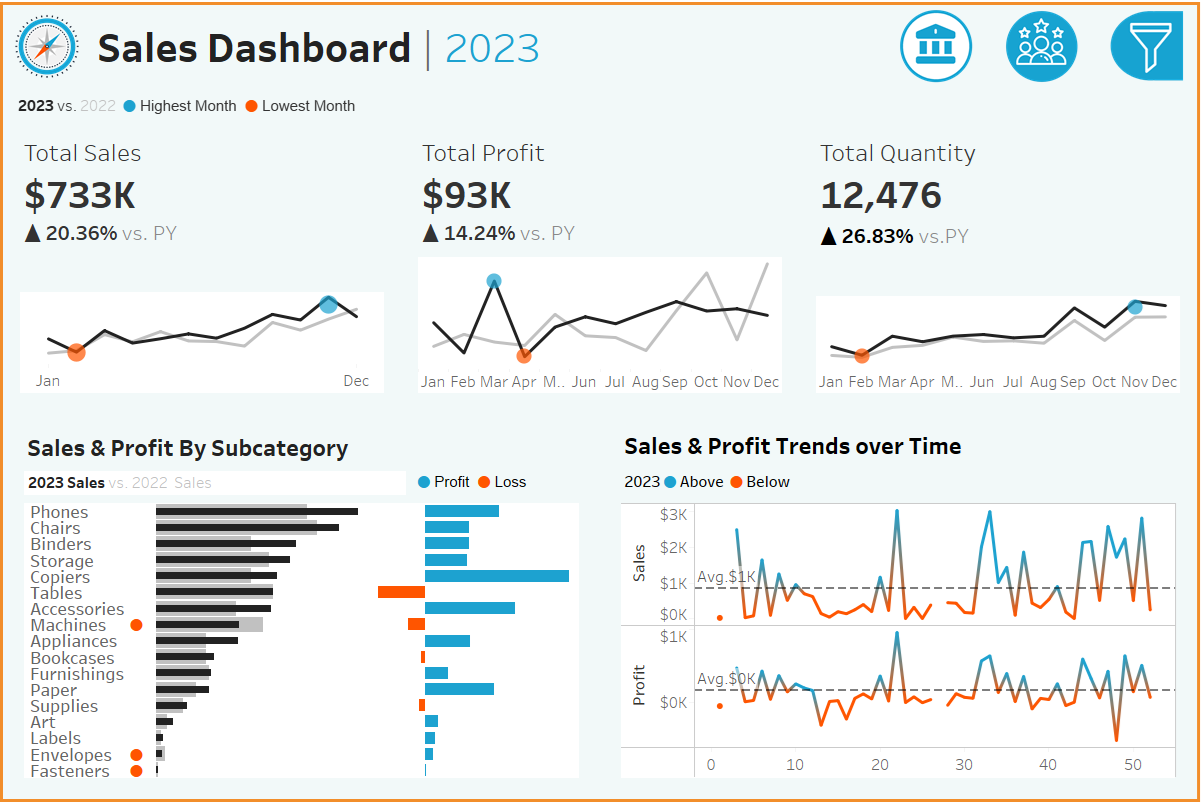

This screenshot's page, from the dashboard's own definition file:
{"tool":"tableau","page":{"name":"Sales Dashboard","canvas":[1200,800],"ordinal":1},"visuals":[{"type":"image","param":"D:/Data Analysis Project/Tabeau/Sales Dashboard Materials/Dashboard Icons/Icon -","box":[3,3,87,82]},{"type":"text","box":[90,3,794,82]},{"type":"dashboard-object","box":[884,3,105,82]},{"type":"dashboard-object","box":[989,3,104,82]},{"type":"dashboard-object","box":[1093,3,104,82]},{"type":"blank","box":[905,10,283,89]},{"type":"worksheet","title":"Legand KPI","mark":"Automatic","box":[3,85,1194,38]},{"type":"text","box":[905,99,283,40]},{"type":"worksheet","title":"KPI Sales","mark":"Automatic","rows":["Calculation_1280711144994123787"],"cols":["Order Date"],"box":[3,123,398,285]},{"type":"worksheet","title":"KPI Profit","mark":"Automatic","rows":["Calculation_1280711145076658201"],"cols":["Order Date"],"box":[401,123,398,285]},{"type":"worksheet","title":"KPI Quantity","mark":"Automatic","rows":["Calculation_1280711145082982430"],"cols":["Order Date"],"box":[799,123,398,285]},{"type":"parameter","param":"[Parameters].[Parameter 1]","box":[905,139,283,56]},{"type":"blank","box":[905,195,283,60]},{"type":"text","box":[905,255,283,33]},{"type":"filter","title":"KPI Sales","param":"[federated.1sicuv803ezvt21517y710dkkp9c].[none:Category:nk]","box":[905,288,283,61]},{"type":"filter","title":"KPI Sales","param":"[federated.1sicuv803ezvt21517y710dkkp9c].[none:Sub-Category:nk]","box":[905,349,283,61]},{"type":"text","box":[905,410,283,33]},{"type":"text","box":[20,425,563,40]},{"type":"text","box":[617,425,563,36]},{"type":"filter","title":"KPI Sales","param":"[federated.1sicuv803ezvt21517y710dkkp9c].[none:Region:nk]","box":[905,443,283,61]},{"type":"text","box":[617,461,563,36]},{"type":"worksheet","title":"Legand Sales","mark":"Automatic","box":[20,465,390,32]},{"type":"text","box":[410,465,173,32]},{"type":"worksheet","title":"Subcategories comparison","mark":"Bar","rows":["Sub-Category","Calculation_1280711145094078495"],"cols":["CY Sales (copy)_1280711144985690120","Calculation_1280711144984895495","Calculation_1280711145076080663"],"box":[20,497,563,283]},{"type":"worksheet","title":"Weekly Trend","mark":"Automatic","rows":["Calculation_1280711144984895495","Calculation_1280711145076080663"],"cols":["Order Date"],"box":[617,497.1,563,282.9]},{"type":"filter","title":"KPI Sales","param":"[federated.1sicuv803ezvt21517y710dkkp9c].[none:State:nk]","box":[905,504,283,61]},{"type":"filter","title":"KPI Sales","param":"[federated.1sicuv803ezvt21517y710dkkp9c].[none:City:nk]","box":[905,565,283,61]}]}

Visuals, with their boxes in screenshot pixels (x1, y1, x2, y2), scaled from the page's 1200x800 canvas onto the 1202x803 screenshot:
image: bbox=[3, 3, 90, 85]
text: bbox=[90, 3, 885, 85]
dashboard-object: bbox=[885, 3, 991, 85]
dashboard-object: bbox=[991, 3, 1095, 85]
dashboard-object: bbox=[1095, 3, 1199, 85]
blank: bbox=[907, 10, 1190, 99]
"Legand KPI" worksheet: bbox=[3, 85, 1199, 123]
text: bbox=[907, 99, 1190, 140]
"KPI Sales" worksheet: bbox=[3, 123, 402, 410]
"KPI Profit" worksheet: bbox=[402, 123, 800, 410]
"KPI Quantity" worksheet: bbox=[800, 123, 1199, 410]
parameter: bbox=[907, 140, 1190, 196]
blank: bbox=[907, 196, 1190, 256]
text: bbox=[907, 256, 1190, 289]
"KPI Sales" filter: bbox=[907, 289, 1190, 350]
"KPI Sales" filter: bbox=[907, 350, 1190, 412]
text: bbox=[907, 412, 1190, 445]
text: bbox=[20, 427, 584, 467]
text: bbox=[618, 427, 1182, 463]
"KPI Sales" filter: bbox=[907, 445, 1190, 506]
text: bbox=[618, 463, 1182, 499]
"Legand Sales" worksheet: bbox=[20, 467, 411, 499]
text: bbox=[411, 467, 584, 499]
"Subcategories comparison" worksheet (Bar marks): bbox=[20, 499, 584, 783]
"Weekly Trend" worksheet: bbox=[618, 499, 1182, 783]
"KPI Sales" filter: bbox=[907, 506, 1190, 567]
"KPI Sales" filter: bbox=[907, 567, 1190, 628]
